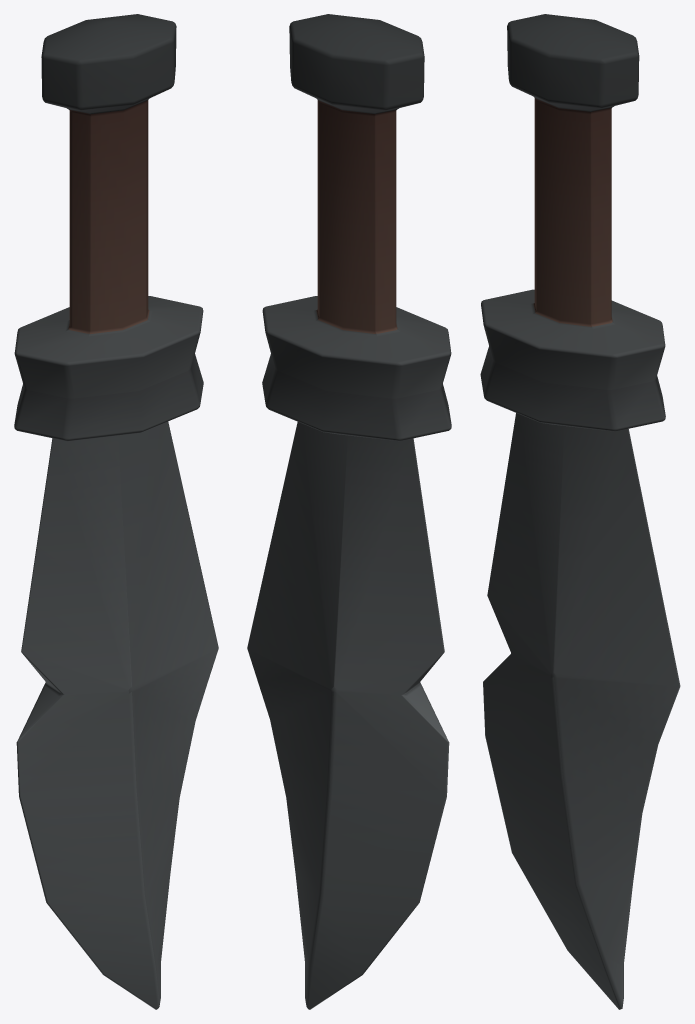
File: dagger_1.glb
The picture shows the model from 3 angles, left to right: view 1: azimuth 30°, elevation 25°; view 2: azimuth 150°, elevation 25°; view 3: azimuth 330°, elevation 25°; orthographic projection. The views are drawn at different scales.
Visible parts, largest first — view 1: dagger_1; view 2: dagger_1; view 3: dagger_1.
Part boxes in pixels (box(x1,y1,x2,y2)): dagger_1: box(14, 14, 218, 1009); dagger_1: box(247, 14, 451, 1009); dagger_1: box(480, 14, 680, 1009).
Bounding box in the file's own units: 0.0854 × 0.4 × 0.0503.
Materials: 1 (1 with a texture image).
